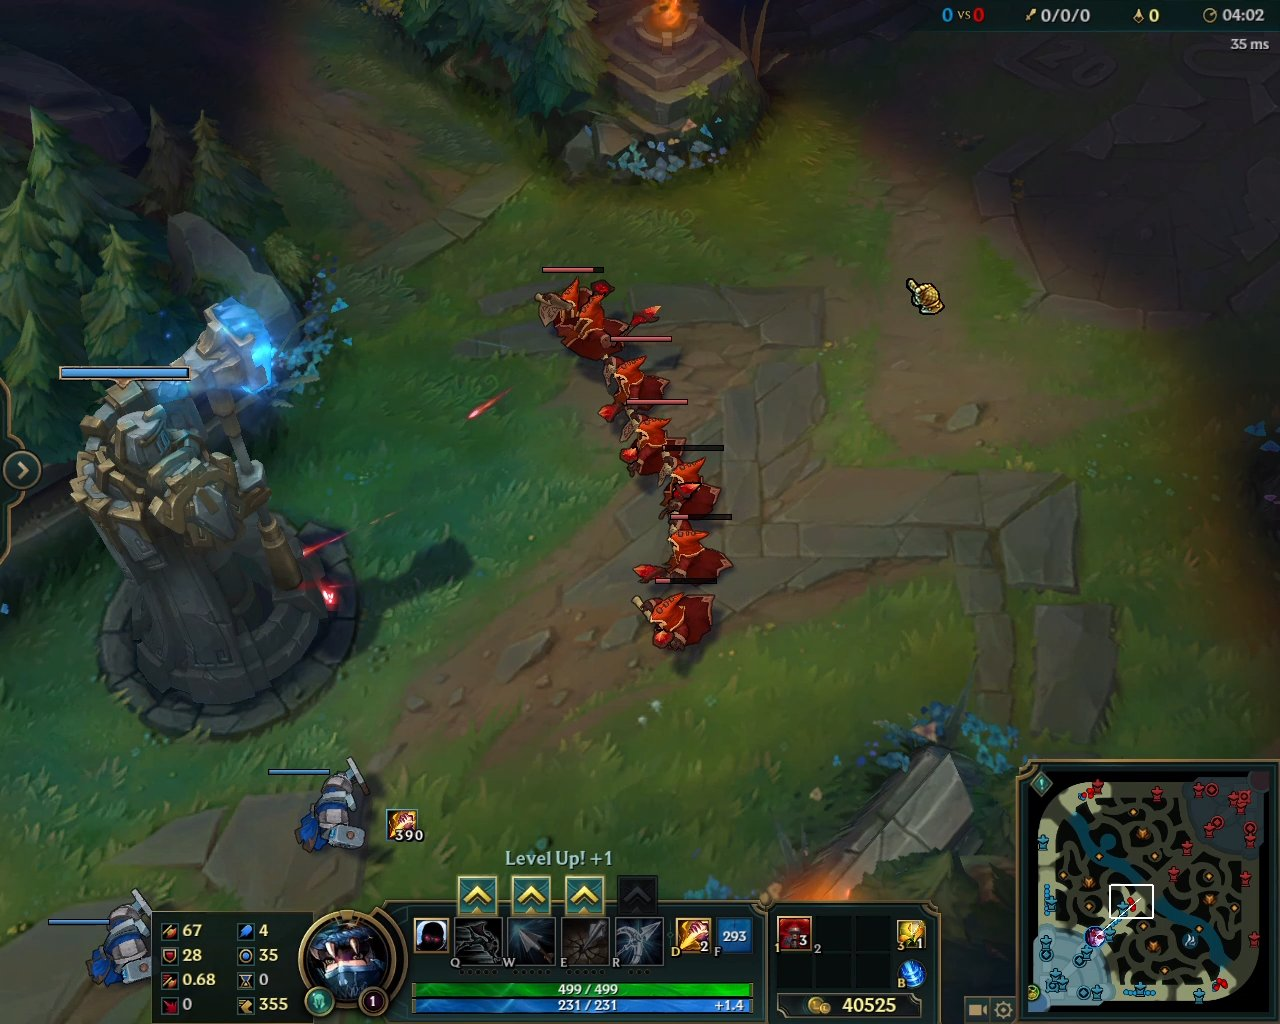EnemyMinion: (628, 513, 734, 586), (596, 335, 674, 424), (631, 576, 720, 652), (534, 265, 612, 341), (619, 397, 689, 480), (657, 445, 726, 518)
